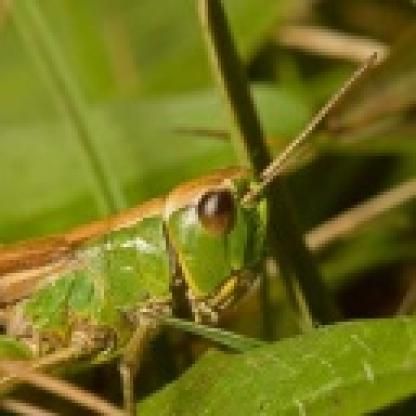grasshopper: (0, 98, 386, 394)
